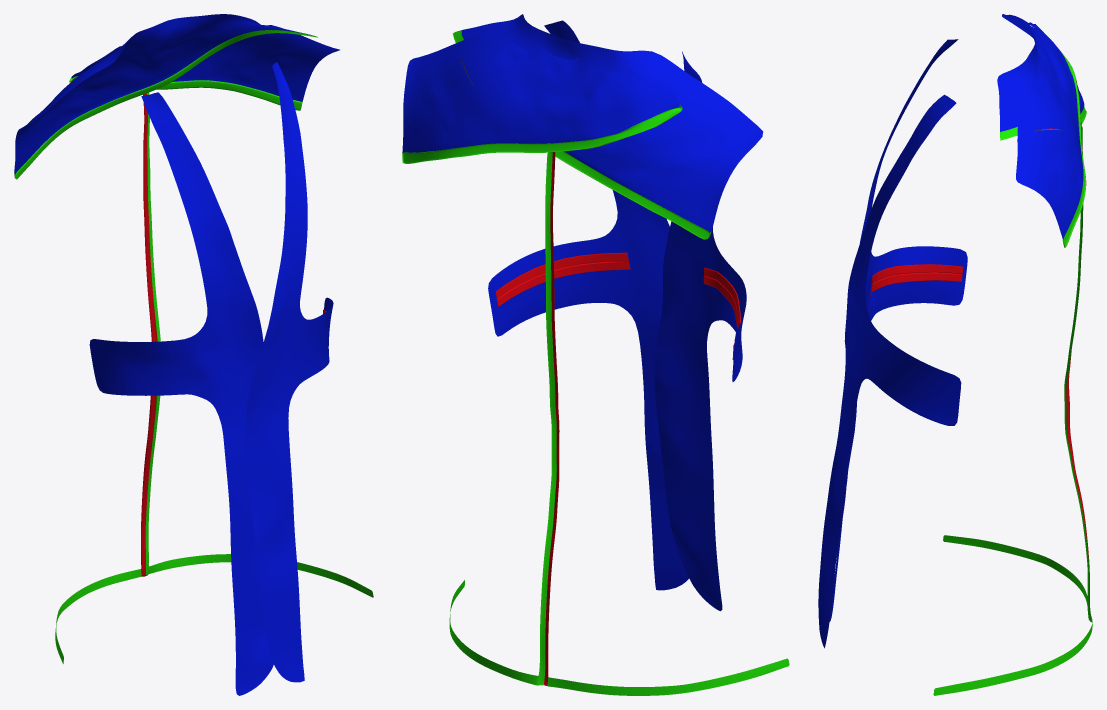
The model's file is unlined_no_vent.glb.
3 renders of one model, left to right at view 1: azimuth 30°, elevation 25°; view 2: azimuth 150°, elevation 25°; view 3: azimuth 270°, elevation 25°, orthographic. The views are drawn at different scales.
Visible parts, largest first — view 1: secondary, tertiary, primary; view 2: secondary, tertiary, primary; view 3: secondary, tertiary, primary.
Boxes of the visible parts, x1,y1,x2,y2 form: secondary: [14, 14, 339, 695]; tertiary: [14, 30, 373, 663]; primary: [70, 82, 326, 576]; secondary: [402, 14, 763, 611]; tertiary: [402, 30, 789, 695]; primary: [460, 57, 740, 685]; secondary: [818, 14, 1084, 648]; tertiary: [933, 33, 1092, 695]; primary: [870, 53, 1089, 603].
Size of the model in its own units: 41.21 by 72.63 by 30.25.
